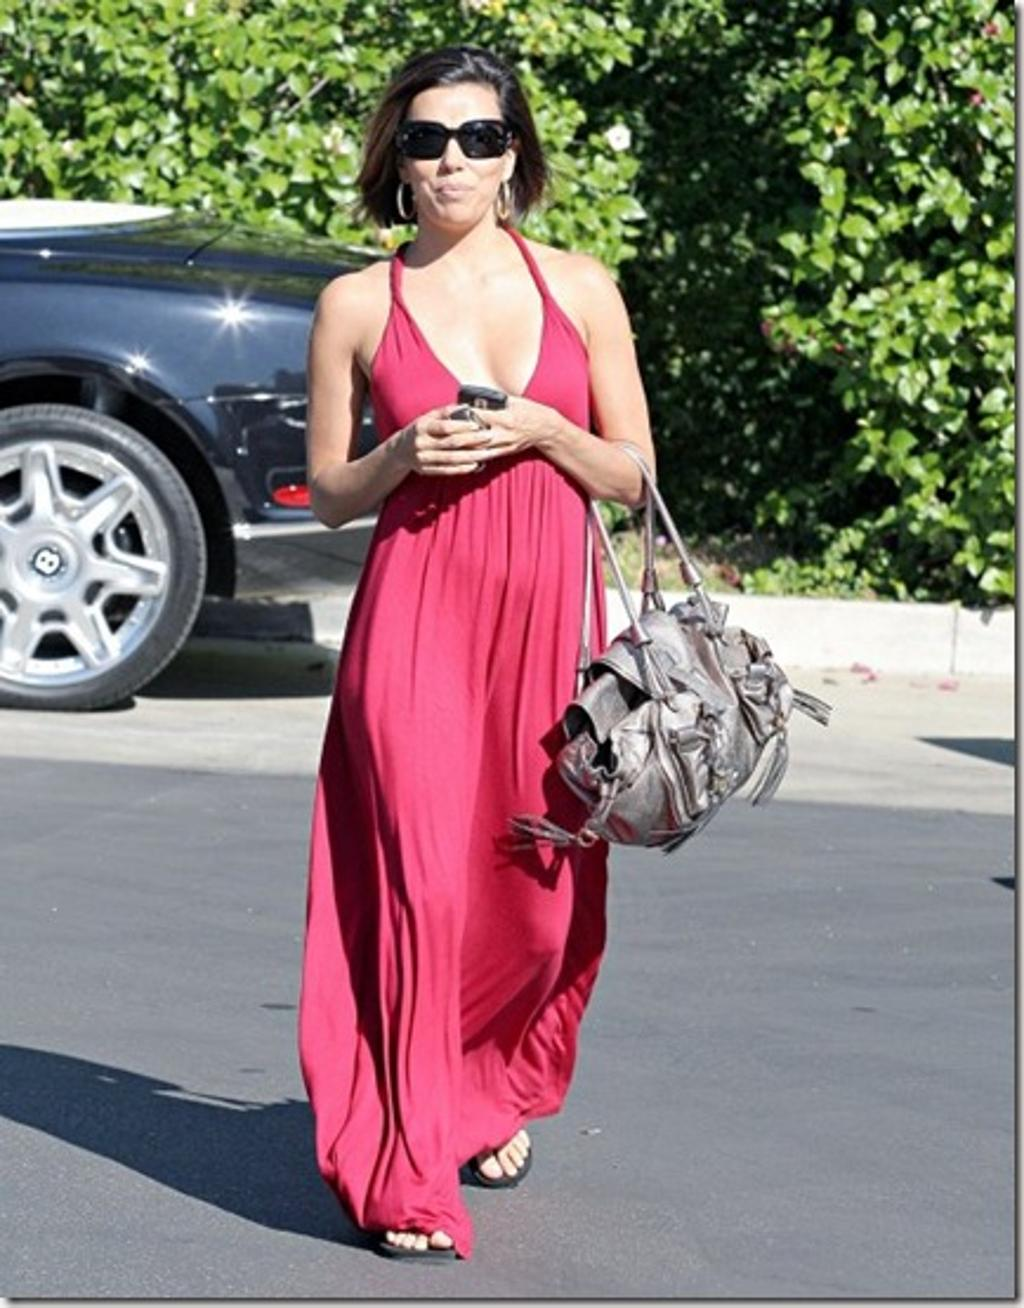face: (409, 79, 509, 227)
